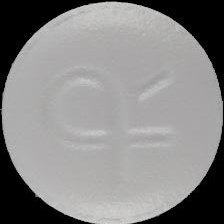42291-349: (0, 0, 224, 224)
